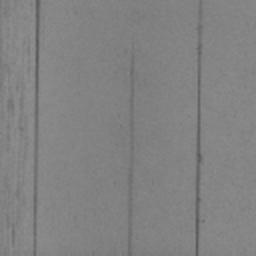Scratches: (32, 0, 42, 256), (125, 40, 136, 256), (195, 3, 202, 256)
